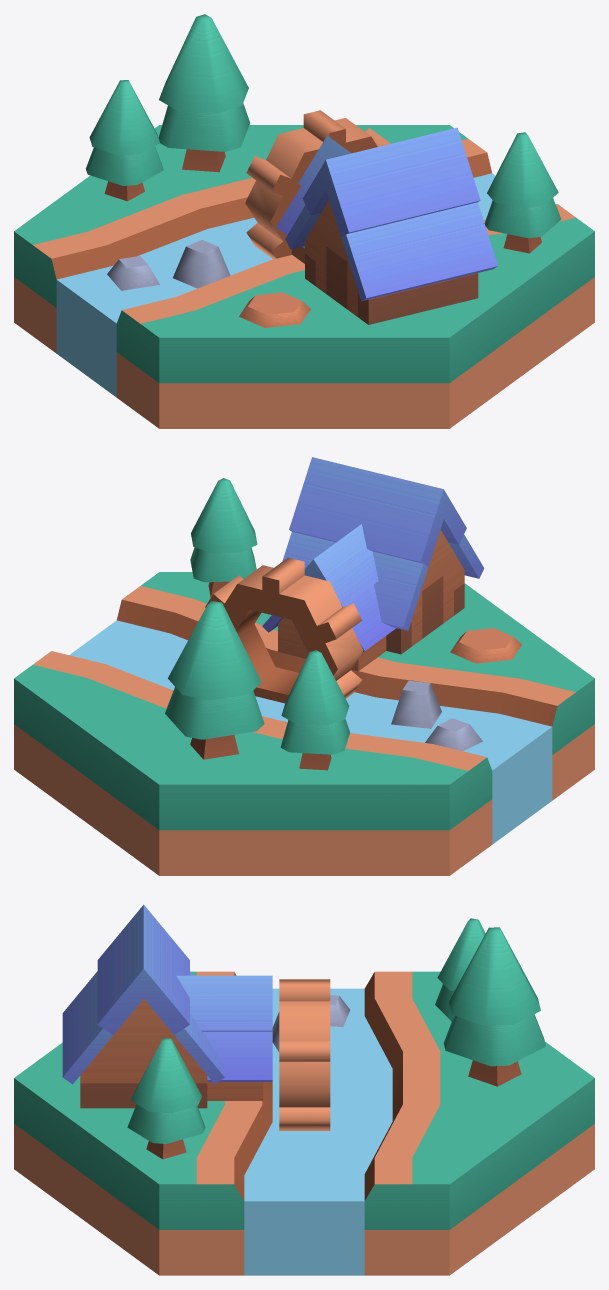
Rendered from building-watermill.glb.
3 views of the same model, one above another, from view 1: azimuth 30°, elevation 25°; view 2: azimuth 150°, elevation 25°; view 3: azimuth 270°, elevation 25° (orthographic).
Visible parts, largest first — view 1: building-watermill, rotate-z; view 2: building-watermill, rotate-z; view 3: building-watermill, rotate-z.
Part boxes in pixels (x1=…): building-watermill: x1=14, y1=14, x2=594, y2=428; rotate-z: x1=245, y1=110, x2=390, y2=259; building-watermill: x1=14, y1=457, x2=594, y2=875; rotate-z: x1=205, y1=557, x2=363, y2=703; building-watermill: x1=14, y1=904, x2=594, y2=1275; rotate-z: x1=279, y1=979, x2=330, y2=1130.
Size of the model in its own units: 1 by 0.5192 by 1.15.
1 material, 1 textured.
